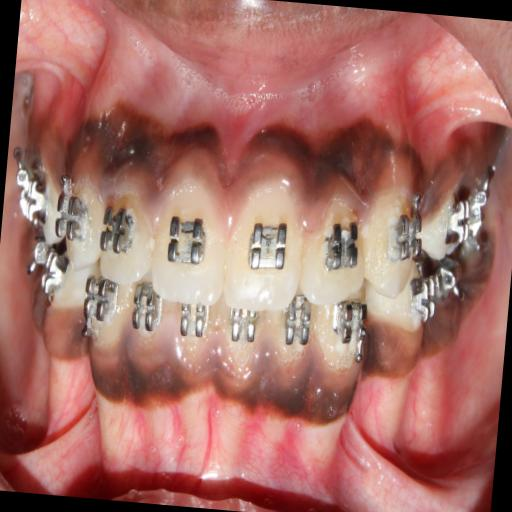correct_brace: (243, 213, 291, 281), (164, 210, 210, 274), (317, 215, 361, 279), (390, 198, 425, 270), (100, 196, 137, 262)
incorrect_brace: (302, 182, 370, 308), (97, 176, 159, 290)
